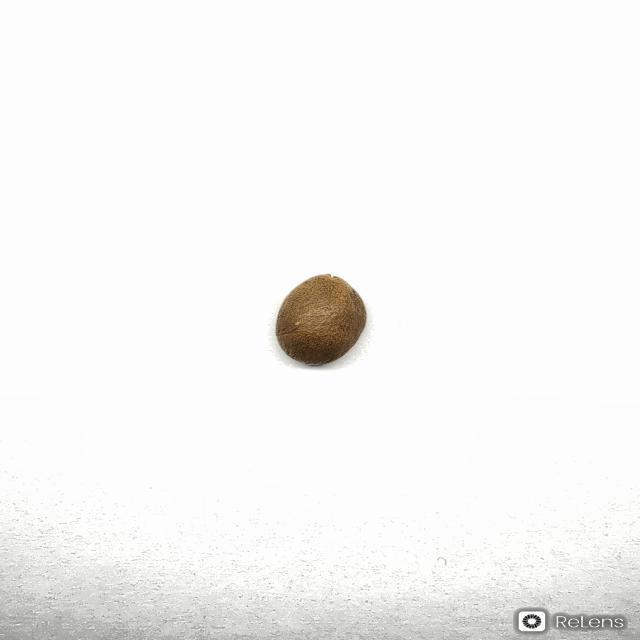Good bean: (274, 273, 367, 365)
